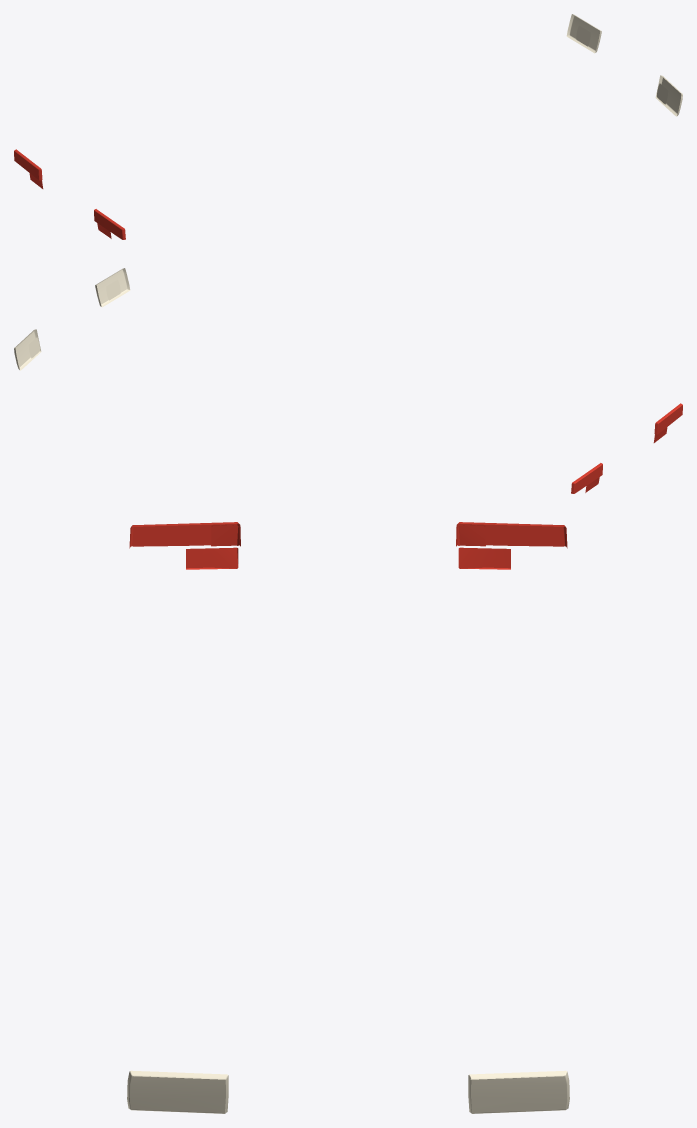
Rendered from vaz2107_lights.obj.
3 renders of one model, top to bottom at view 1: azimuth 30°, elevation 25°; view 2: azimuth 150°, elevation 25°; view 3: azimuth 270°, elevation 25°, orthographic. The views are drawn at different scales.
Parts seen in each view (by area): view 1: vaz2107_Headlight, vaz2107_Taillight; view 2: vaz2107_Headlight, vaz2107_Taillight; view 3: vaz2107_Headlight, vaz2107_Taillight.
Part boxes in pixels (box(x1,y1,x2,y2)): vaz2107_Headlight: box(566, 14, 682, 116); vaz2107_Taillight: box(14, 149, 125, 239); vaz2107_Headlight: box(14, 268, 130, 370); vaz2107_Taillight: box(571, 403, 682, 493); vaz2107_Headlight: box(127, 1070, 569, 1113); vaz2107_Taillight: box(129, 522, 567, 569).
Bounding box in the file's own units: 4.07 × 0.1573 × 1.38.
2 materials, 2 textured.
